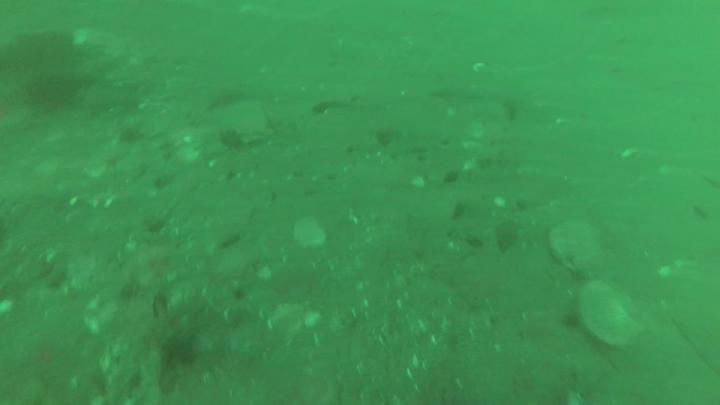scallop: (578, 283, 637, 349)
